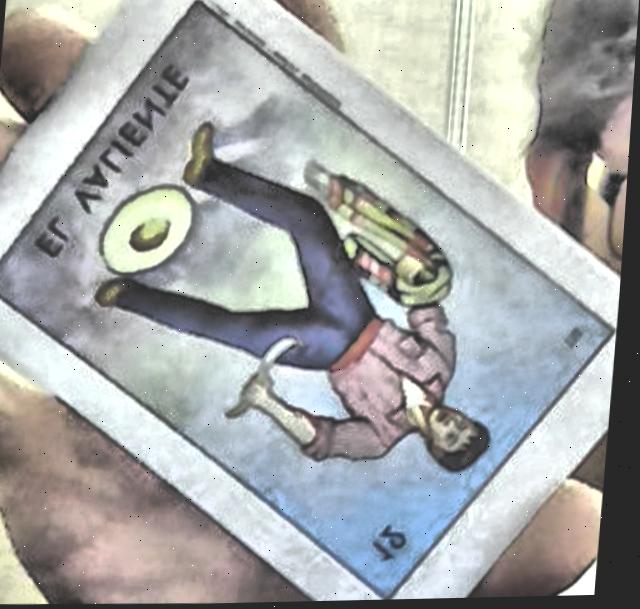El Valiente: (0, 4, 614, 601)
